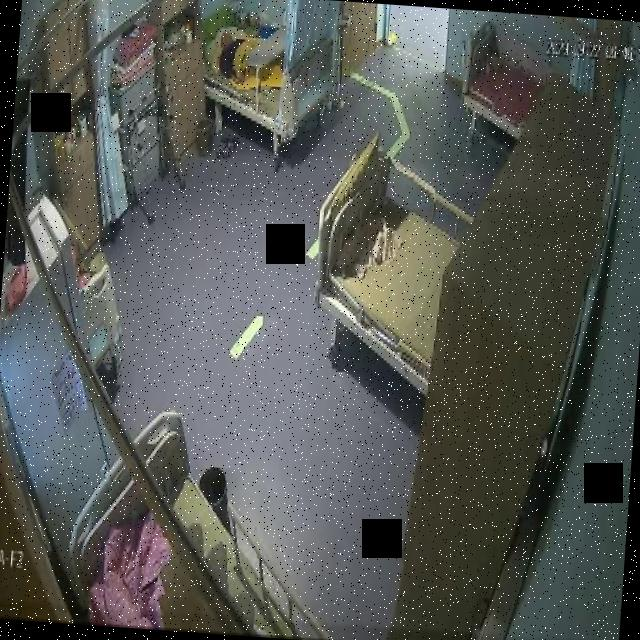bed: (62, 402, 320, 640), (310, 149, 470, 386), (202, 12, 340, 139), (457, 19, 547, 140)
lie: (214, 22, 288, 86)
patient: (214, 22, 258, 84)
walker: (112, 82, 194, 228)
